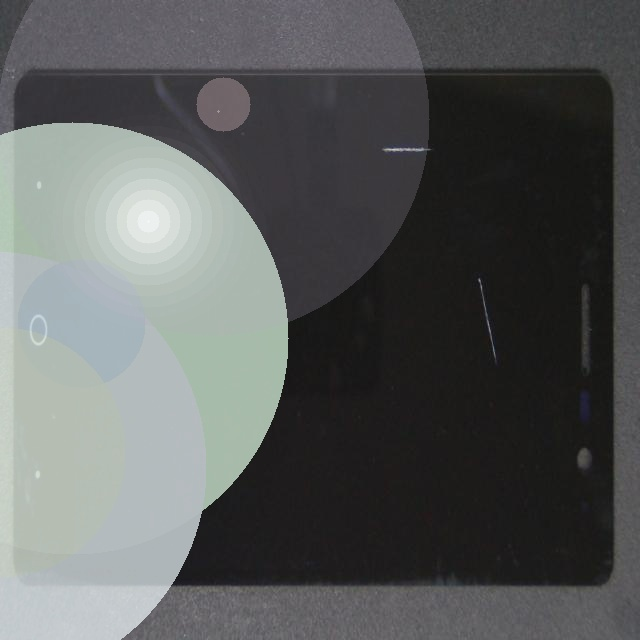scratch: (252, 86, 640, 463), (249, 68, 624, 204)
